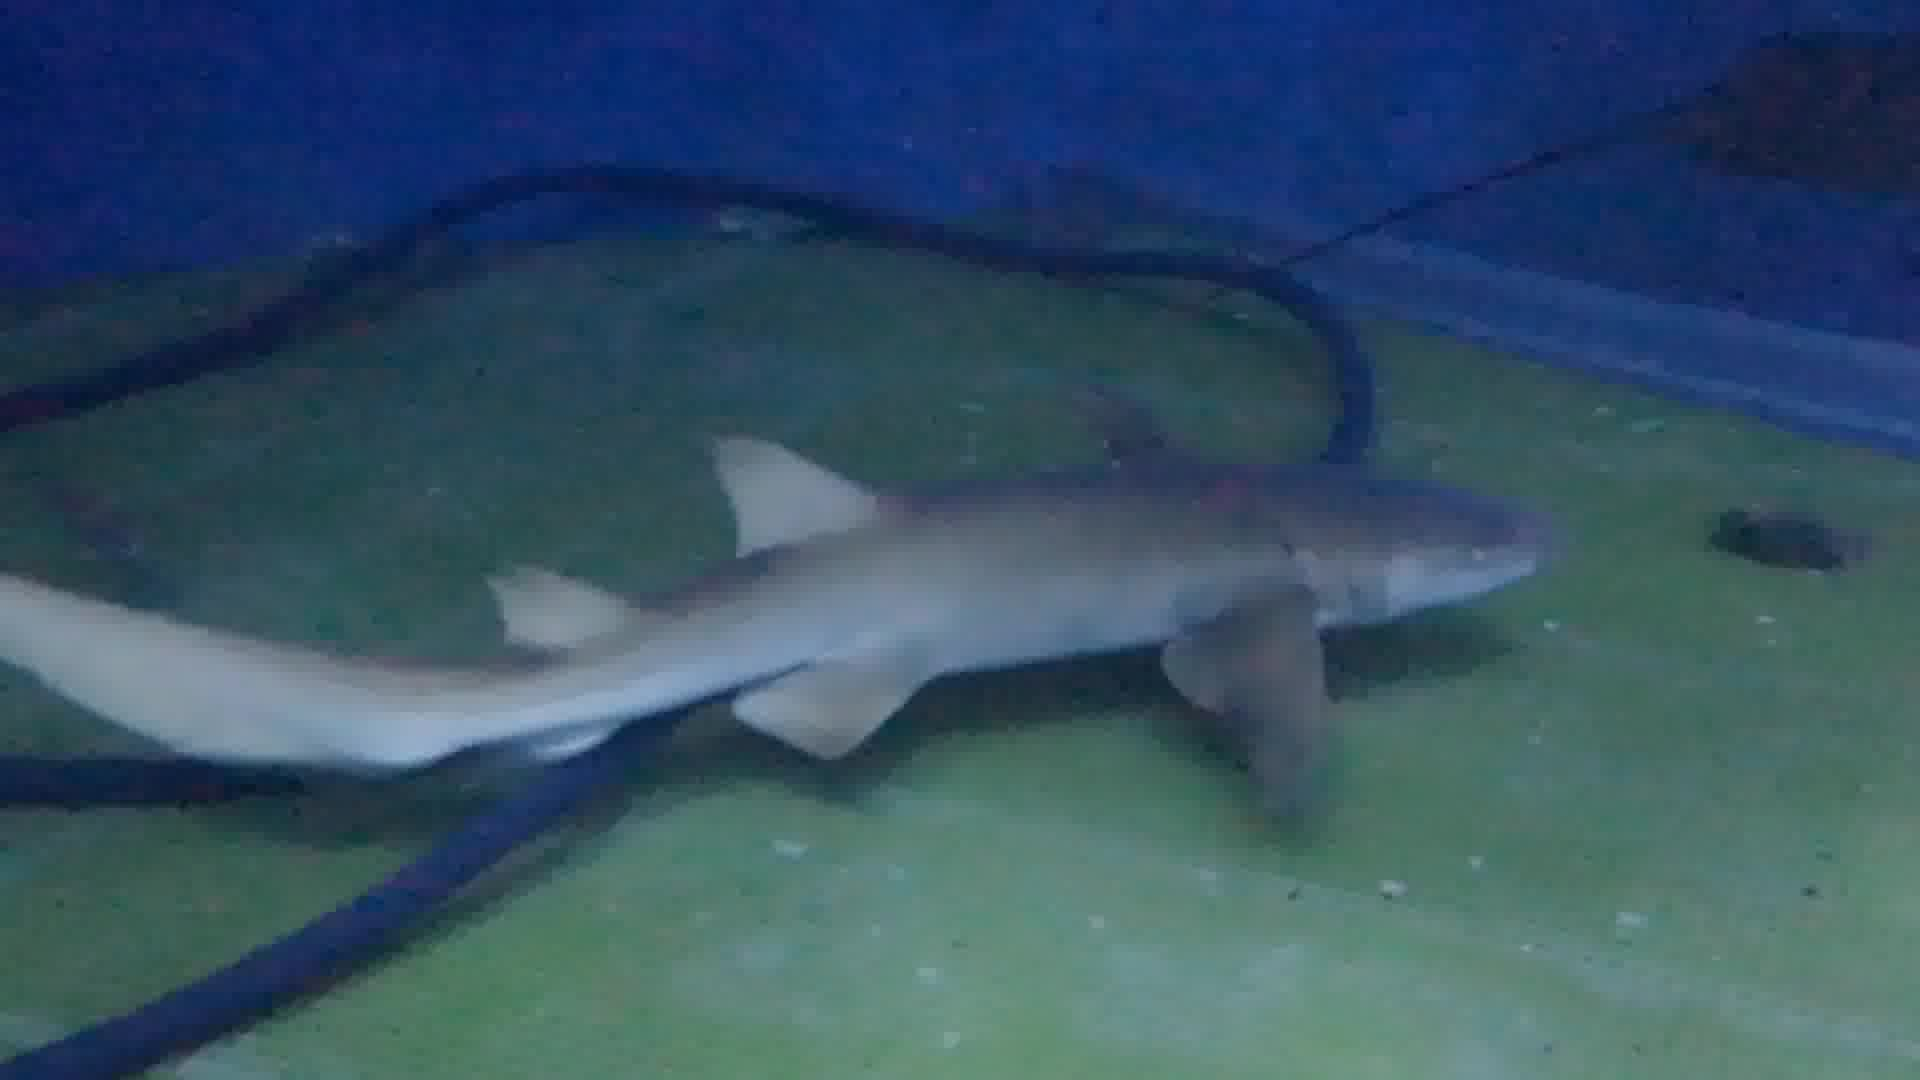Nebrius ferrugineus: (38, 435, 1555, 808)
